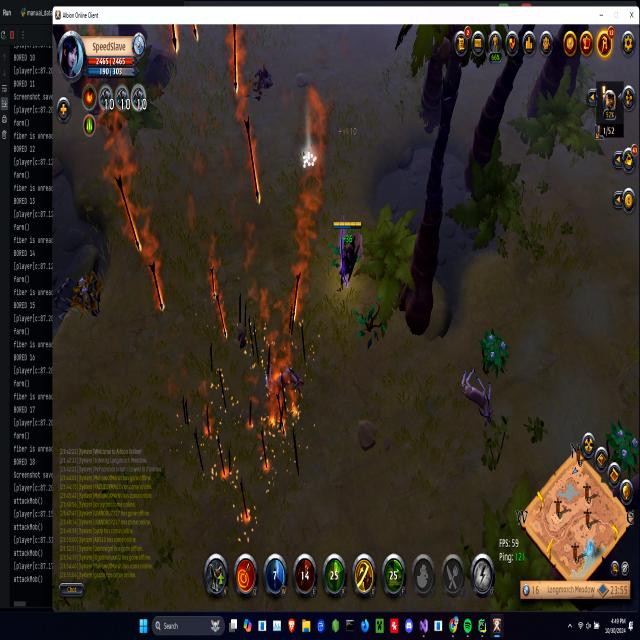hide: (70, 264, 106, 321), (607, 417, 638, 474), (481, 325, 508, 377)
mob: (458, 362, 495, 424), (263, 361, 303, 397)
red: (332, 216, 363, 286)
stone: (302, 150, 318, 172)
